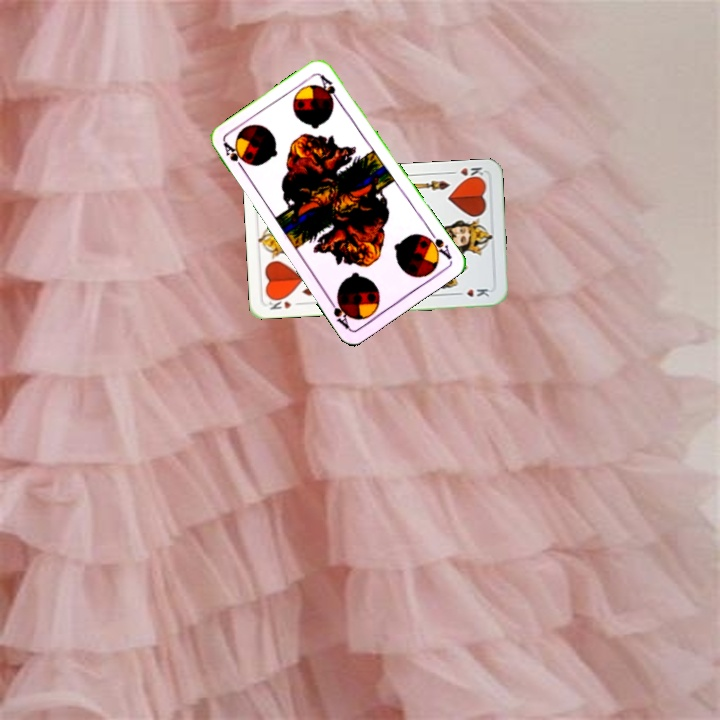HK: (264, 293, 304, 312), (456, 163, 487, 183)
SA: (420, 226, 454, 262), (219, 138, 248, 174)
